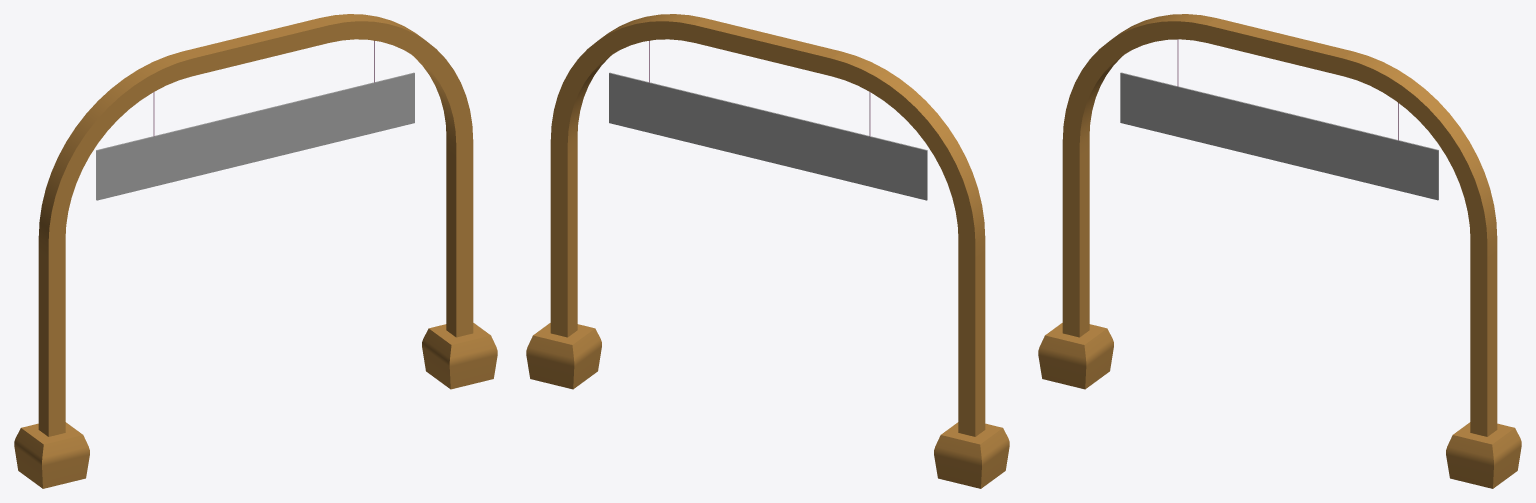
Rendered from FinishLinr.fbx.
3 views of the same model, side by side, from view 1: azimuth 30°, elevation 25°; view 2: azimuth 150°, elevation 25°; view 3: azimuth 330°, elevation 25° (orthographic).
Parts seen in each view (by area): view 1: pCube5; view 2: pCube5; view 3: pCube5.
Boxes of the visible parts, x1,y1,x2,y2 form: pCube5: [14, 14, 497, 488]; pCube5: [526, 14, 1009, 488]; pCube5: [1038, 14, 1521, 488].
Size of the model in its own units: 552 by 448 by 58.17.
